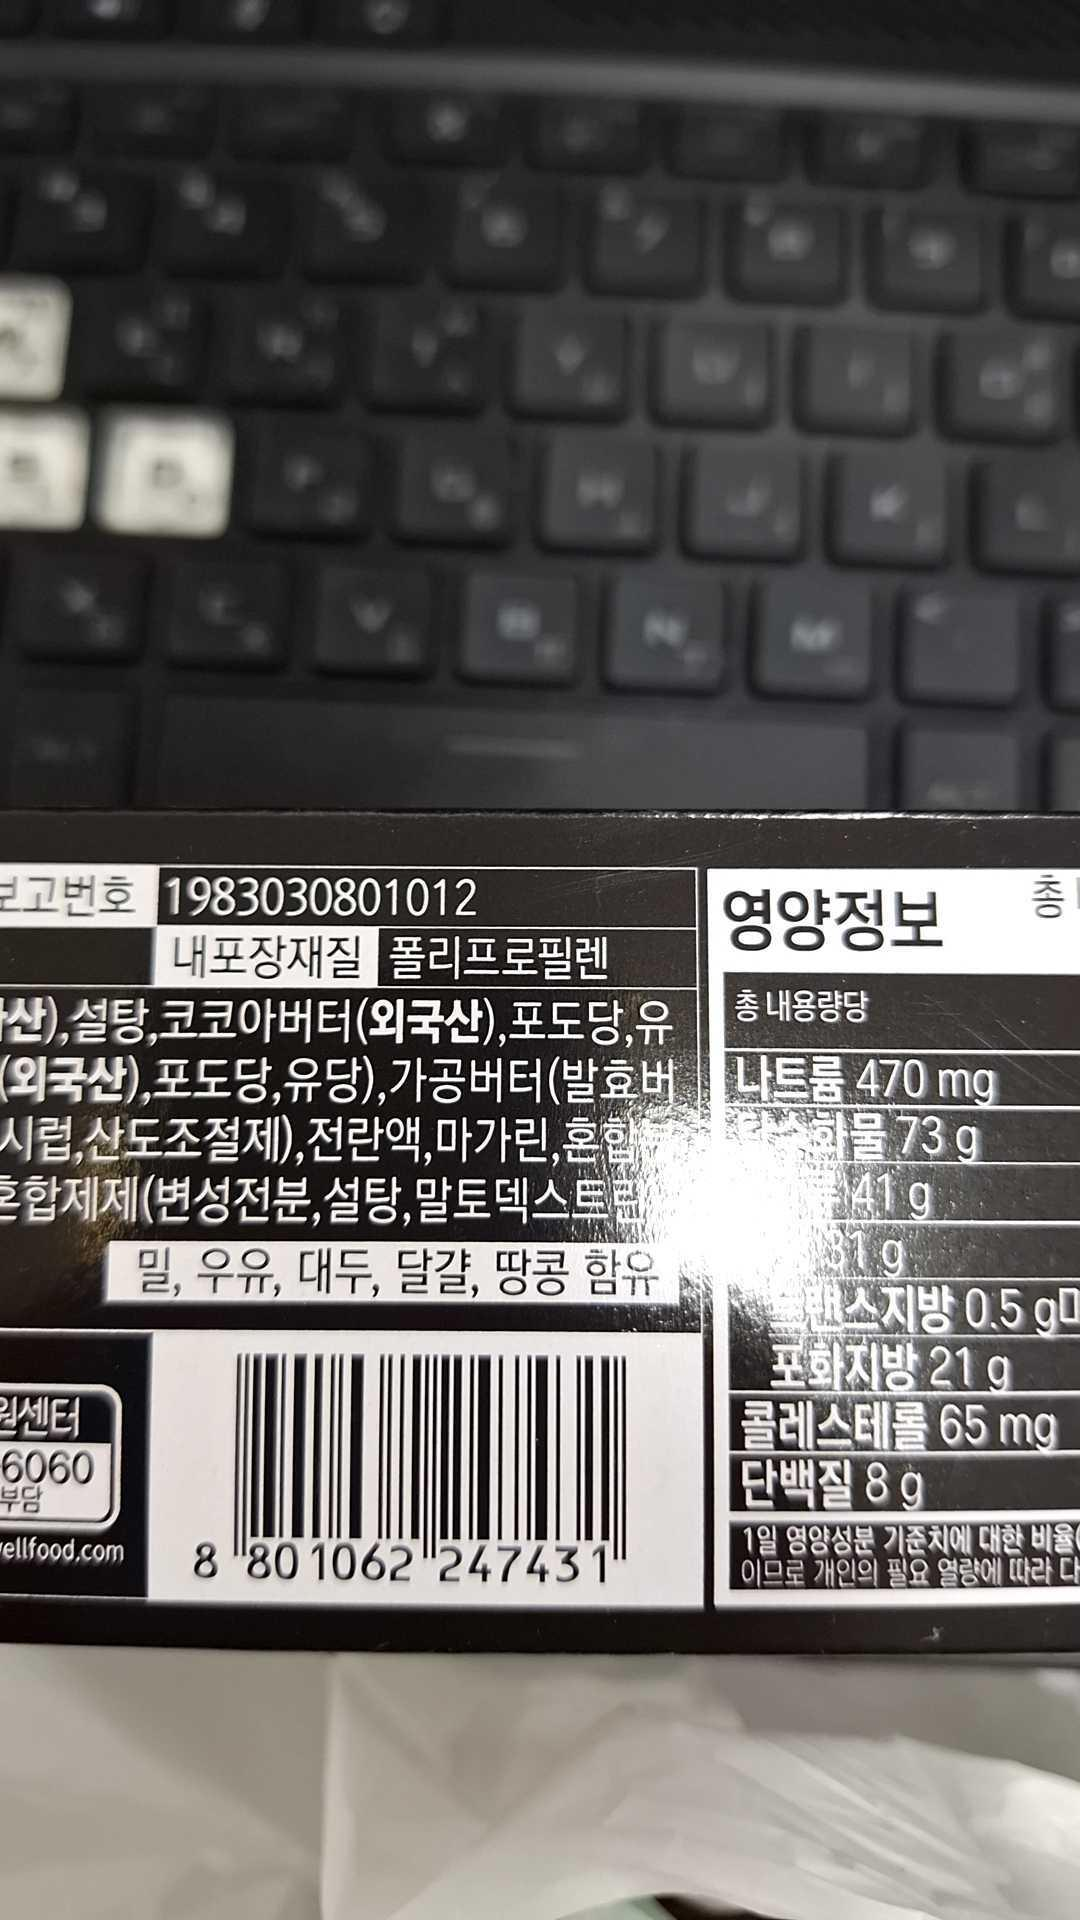chickchok-3400-2025-9-10: (167, 1342, 687, 1590)
